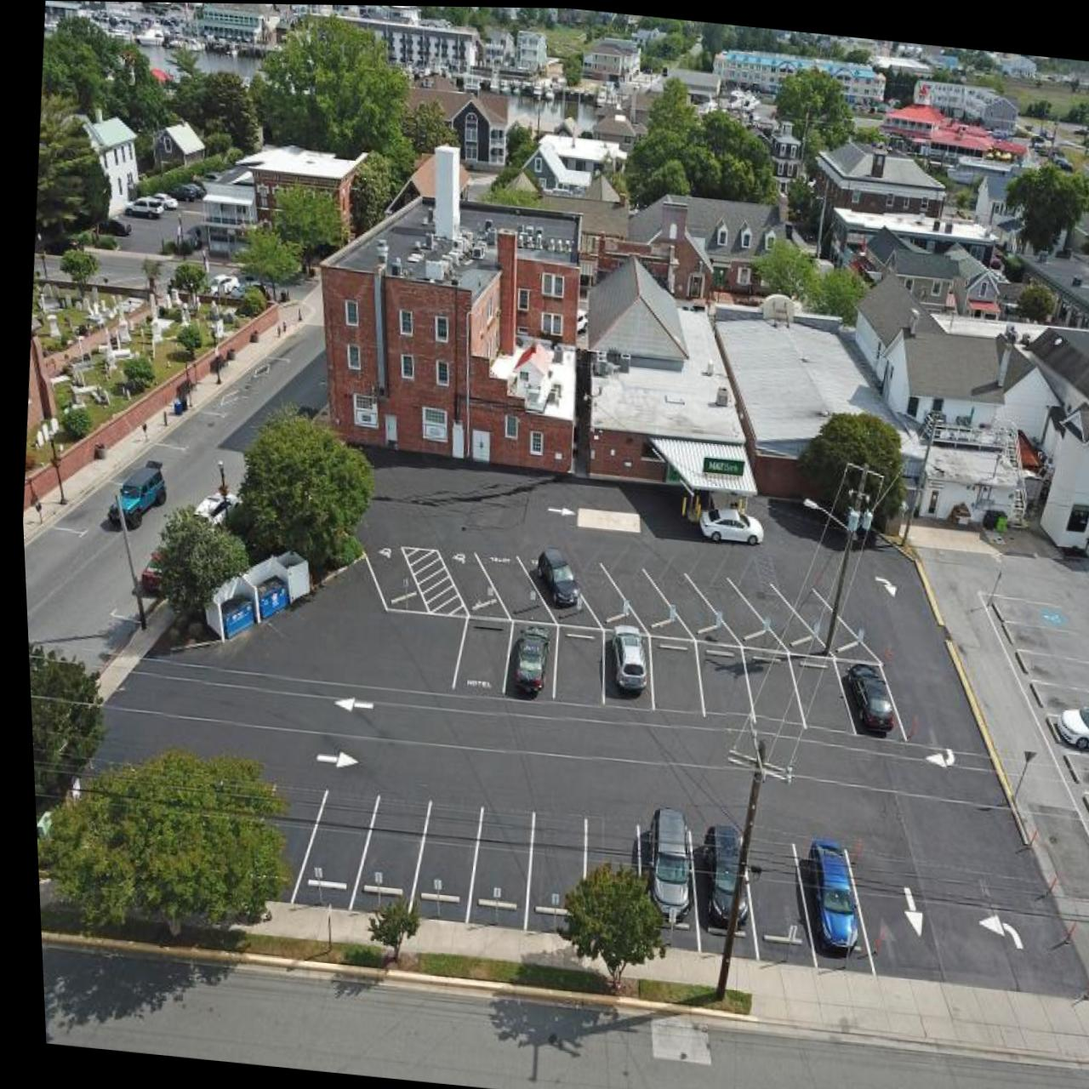cars: (682, 815, 759, 975), (626, 820, 699, 959), (800, 840, 875, 973), (836, 653, 911, 757), (515, 545, 589, 634), (595, 621, 655, 729), (502, 609, 560, 720)
empty: (398, 787, 489, 929), (730, 833, 817, 977), (512, 794, 591, 951), (454, 792, 539, 936), (286, 773, 370, 914), (573, 810, 654, 956), (347, 786, 430, 922), (783, 658, 859, 757), (548, 624, 610, 733), (645, 631, 710, 734), (693, 636, 754, 738), (452, 615, 516, 710), (475, 550, 548, 633), (741, 640, 801, 740), (435, 545, 498, 624), (359, 538, 423, 614), (598, 558, 663, 629), (651, 568, 714, 637), (570, 559, 627, 635), (741, 584, 804, 652), (790, 592, 856, 648), (701, 577, 750, 640)
